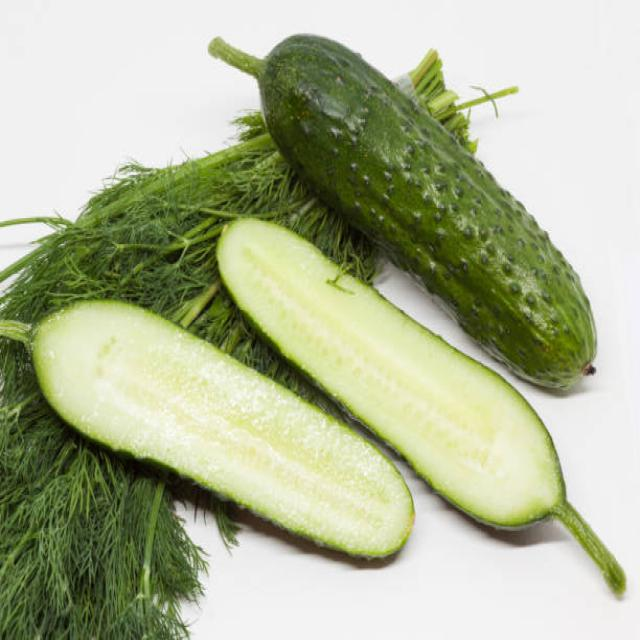cucumber: (258, 31, 598, 392), (219, 214, 565, 533), (33, 300, 414, 560)
